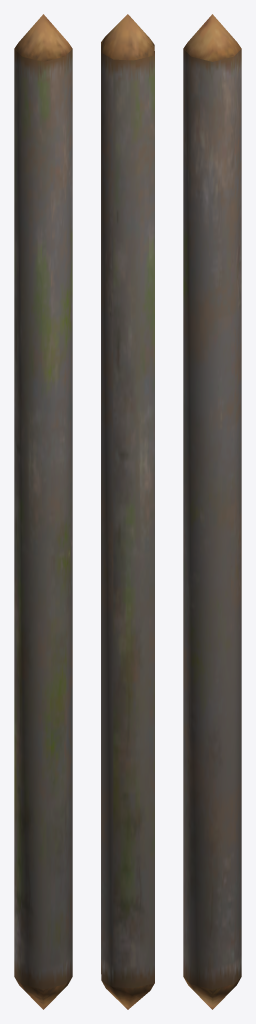
File: Beech_log.fbx
3 views of the same model, side by side, from view 1: azimuth 90°, elevation 25°; view 2: azimuth 150°, elevation 25°; view 3: azimuth 270°, elevation 25° (orthographic).
Visible parts, largest first — view 1: log; view 2: log; view 3: log.
Part boxes in pixels (box(x1,y1,x2,y2)): log: box(14, 14, 72, 1009); log: box(101, 14, 154, 1009); log: box(183, 14, 241, 1009).
Size of the model in its own units: 95.47 by 1684 by 89.82.
Materials: 1 (1 with a texture image).
